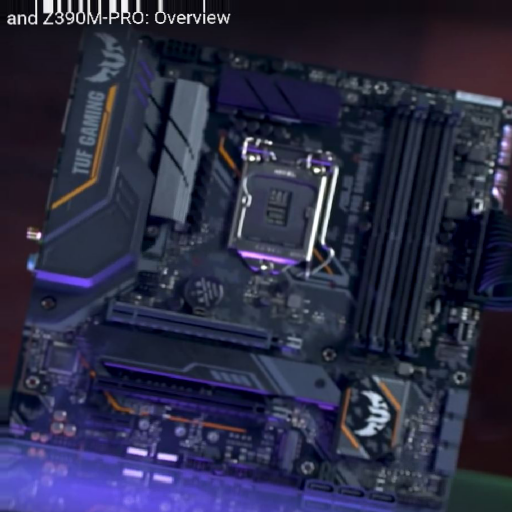CPU: (229, 137, 335, 275)
GPU: (106, 298, 309, 360), (91, 373, 295, 426)
MOTHERBOARD: (13, 43, 506, 506)
RAM: (346, 95, 462, 360)
SSD: (278, 430, 302, 474)
